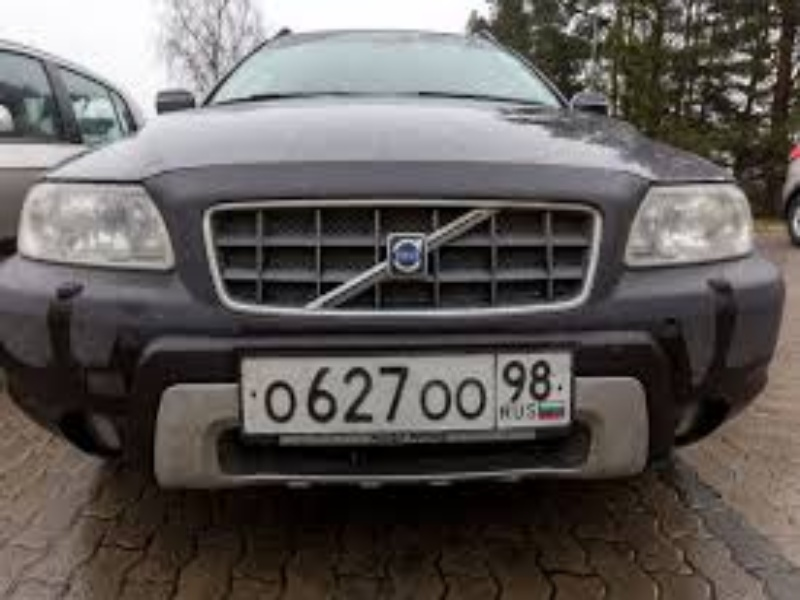car: (1, 28, 787, 491), (1, 36, 146, 258), (783, 133, 800, 245)
plate: (238, 347, 572, 437)
